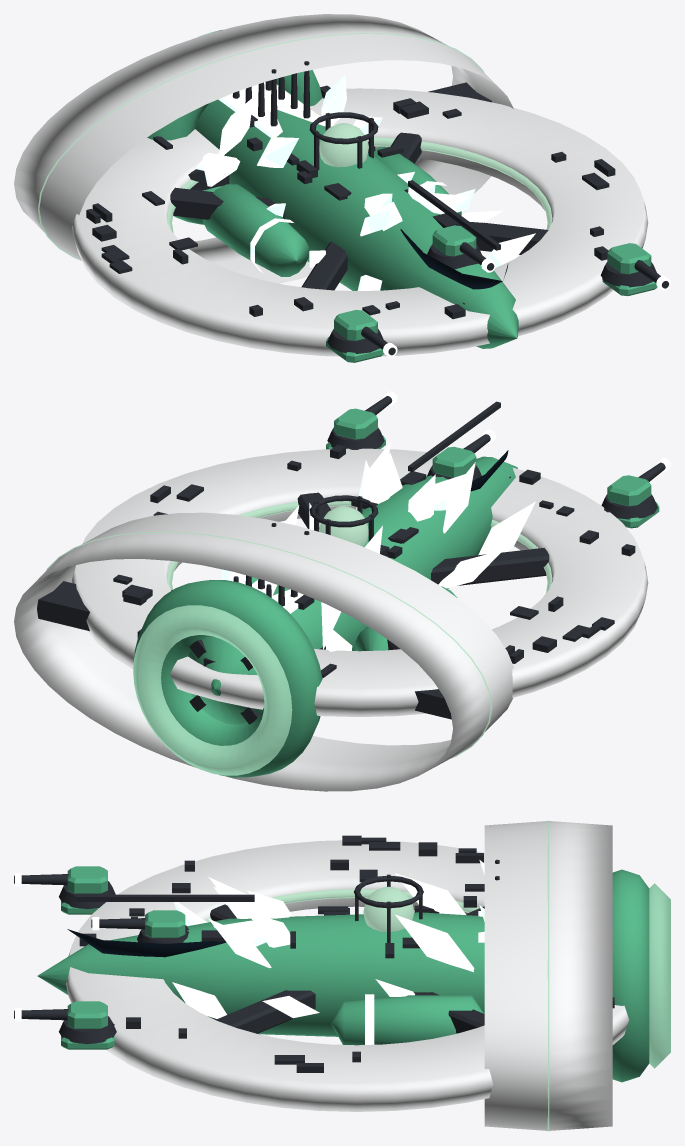
File: ship_mender.glb
The picture shows the model from 3 angles, top to bottom: view 1: azimuth 30°, elevation 25°; view 2: azimuth 150°, elevation 25°; view 3: azimuth 270°, elevation 25°; orthographic projection.
Visible parts, largest first — view 1: primary, secondary, trim, accent, glow, glass; view 2: primary, secondary, trim, engine, accent, glow; view 3: primary, secondary, trim, accent, engine, glow, glass.
Boxes of the visible parts, bbox=[...] form: primary: bbox=[14, 14, 648, 356]; secondary: bbox=[147, 30, 657, 362]; trim: bbox=[86, 61, 668, 355]; accent: bbox=[196, 75, 670, 357]; glow: bbox=[38, 33, 552, 259]; glass: bbox=[400, 229, 508, 289]; primary: bbox=[14, 448, 648, 791]; secondary: bbox=[134, 408, 659, 777]; trim: bbox=[37, 396, 665, 724]; engine: bbox=[133, 605, 292, 775]; accent: bbox=[221, 391, 670, 651]; glow: bbox=[46, 501, 552, 758]; primary: bbox=[66, 821, 628, 1130]; secondary: bbox=[37, 866, 649, 1082]; trim: bbox=[14, 835, 614, 1072]; accent: bbox=[15, 860, 484, 1044]; engine: bbox=[649, 883, 670, 1068]; glow: bbox=[205, 820, 549, 1131]; glass: bbox=[67, 929, 226, 957].
Size of the model in its own units: 3.47 by 1.42 by 3.91.
